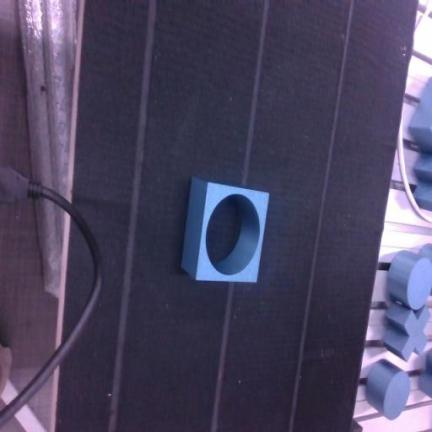square: (182, 178, 269, 282)
